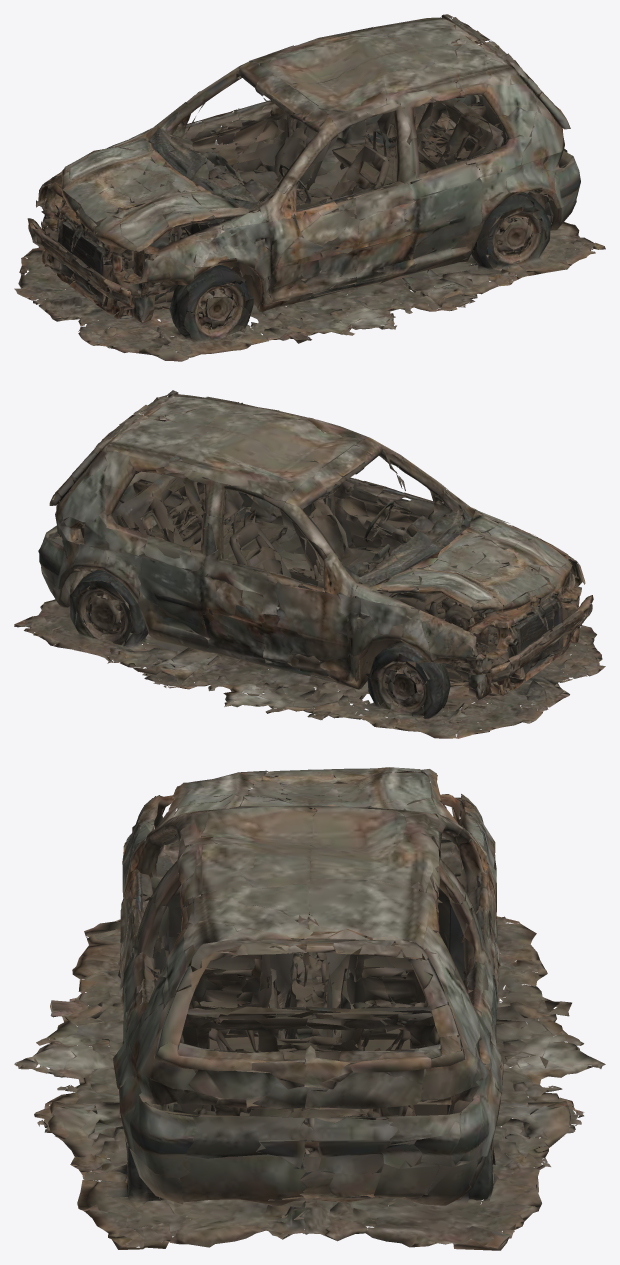
File: burnt-car-wreck-meshy-v2.glb
The picture shows the model from 3 angles, top to bottom: view 1: azimuth 30°, elevation 25°; view 2: azimuth 150°, elevation 25°; view 3: azimuth 270°, elevation 25°; orthographic projection. The views are drawn at different scales.
Visible parts, largest first — view 1: Mesh_0; view 2: Mesh_0; view 3: Mesh_0.
Part boxes in pixels (x1,y1,x2,y2): Mesh_0: (14,14,605,361); Mesh_0: (14,390,605,738); Mesh_0: (14,767,605,1250).
Size of the model in its own units: 1.9 by 0.7042 by 1.34.
1 material, 1 textured.
